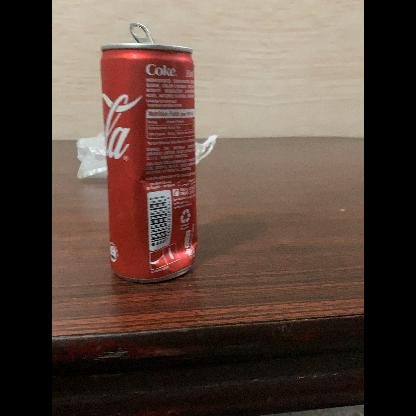Dent_Can: (139, 164, 197, 198), (151, 230, 197, 271)
Lid_Open: (124, 20, 162, 54)
Tin_Can: (92, 19, 208, 288)
